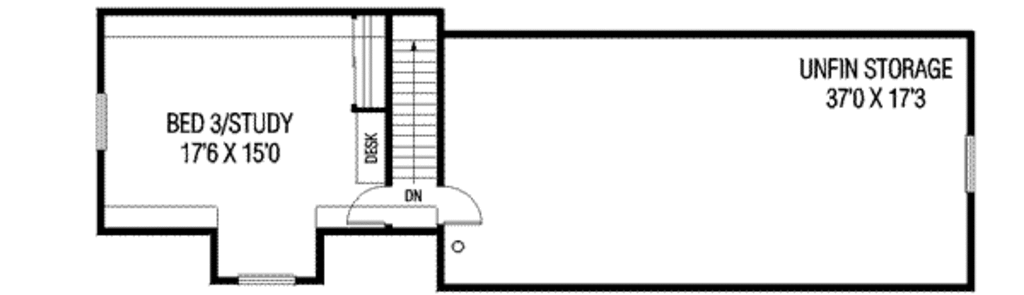door: (436, 186, 489, 229), (347, 180, 390, 226)
stairs: (390, 22, 453, 178)
window: (96, 95, 112, 153), (238, 273, 298, 288), (967, 135, 977, 192)
